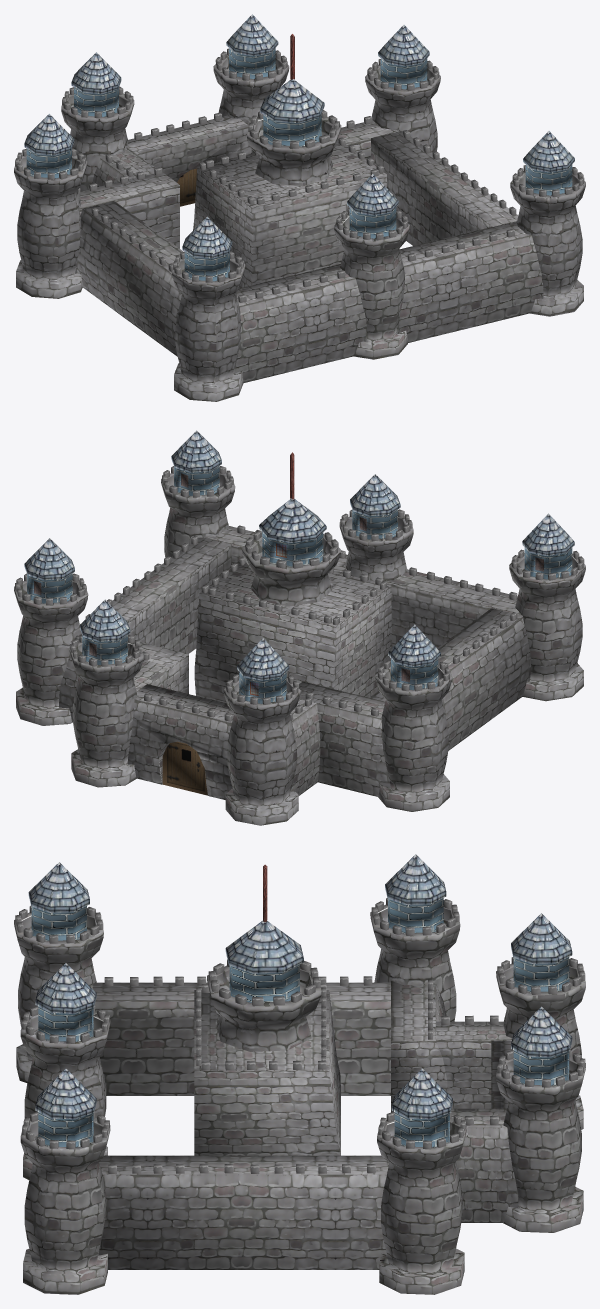
The model's file is castle.fbx.
The picture shows the model from 3 angles, top to bottom: view 1: azimuth 30°, elevation 25°; view 2: azimuth 150°, elevation 25°; view 3: azimuth 270°, elevation 25°; orthographic projection. The views are drawn at different scales.
Parts seen in each view (by area): view 1: U3DMesh; view 2: U3DMesh; view 3: U3DMesh.
Boxes of the visible parts, x1=… form: U3DMesh: x1=14, y1=14, x2=585, y2=401; U3DMesh: x1=14, y1=430, x2=585, y2=825; U3DMesh: x1=14, y1=854, x2=585, y2=1294.
Bounding box in the file's own units: 107 × 61.75 × 104.
Materials: 12 (11 with a texture image).
